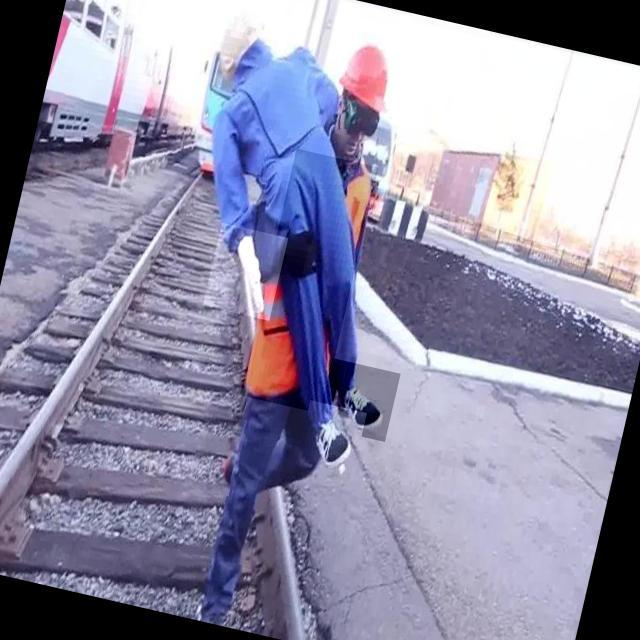Gloves: (276, 222, 323, 290)
Helmet: (332, 38, 400, 116)
Person: (174, 14, 438, 640)
Safety Vest: (239, 149, 378, 414)
